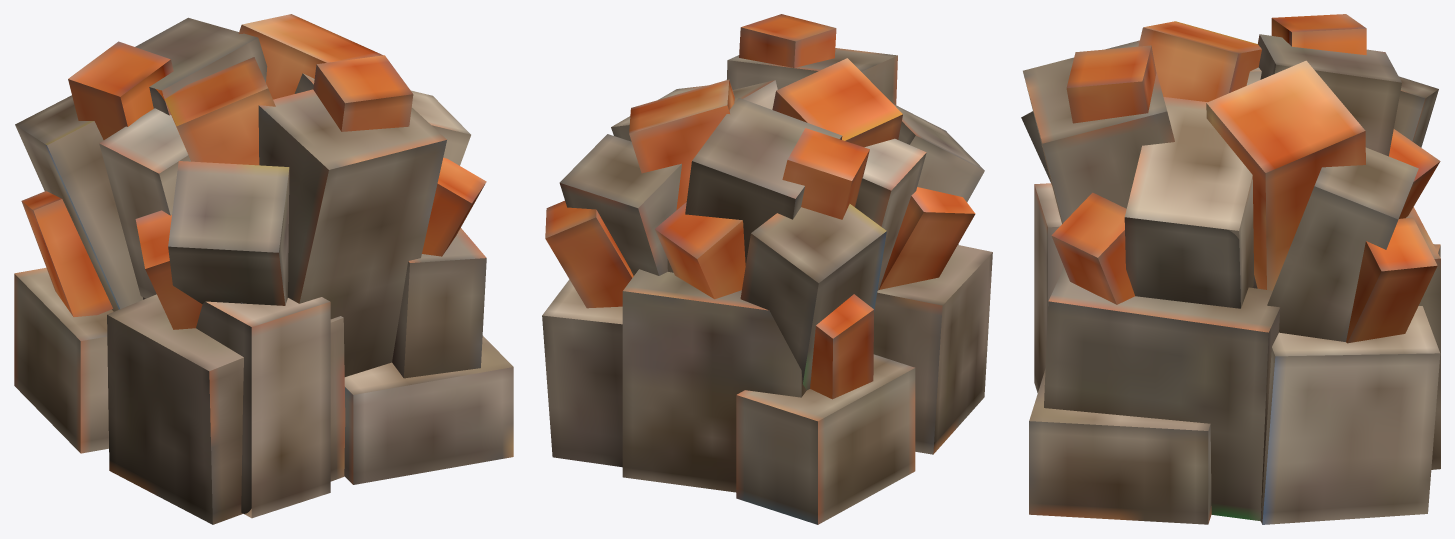
File: SM_Copper_Ore_01_a.fbx
3 renders of one model, left to right at view 1: azimuth 30°, elevation 25°; view 2: azimuth 150°, elevation 25°; view 3: azimuth 270°, elevation 25°, orthographic. The views are drawn at different scales.
Parts seen in each view (by area): view 1: Copper; view 2: Copper; view 3: Copper.
Part boxes in pixels (x1,y1,x2,y2): Copper: [14, 14, 513, 524]; Copper: [542, 14, 992, 524]; Copper: [1021, 14, 1440, 524].
Size of the model in its own units: 101 by 108 by 102.
Materials: 1 (1 with a texture image).
